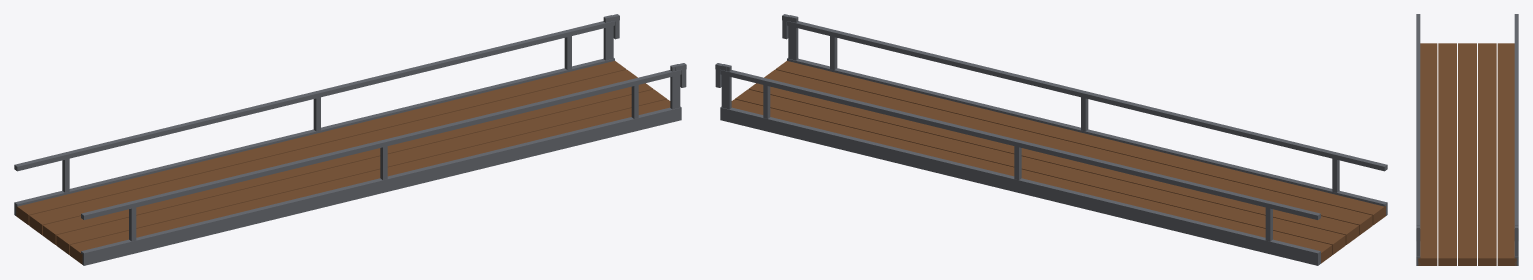
Rendered from SN_Gangway.glb.
The picture shows the model from 3 angles, left to right: view 1: azimuth 30°, elevation 25°; view 2: azimuth 150°, elevation 25°; view 3: azimuth 270°, elevation 25°; orthographic projection. The views are drawn at different scales.
Parts seen in each view (by area): view 1: SN_Gangway; view 2: SN_Gangway; view 3: SN_Gangway.
Part boxes in pixels (box(x1,y1,x2,y2)): SN_Gangway: box(14, 14, 686, 265); SN_Gangway: box(715, 14, 1387, 265); SN_Gangway: box(1416, 14, 1518, 265).
Bounding box in the file's own units: 6 × 0.52 × 1.2.
